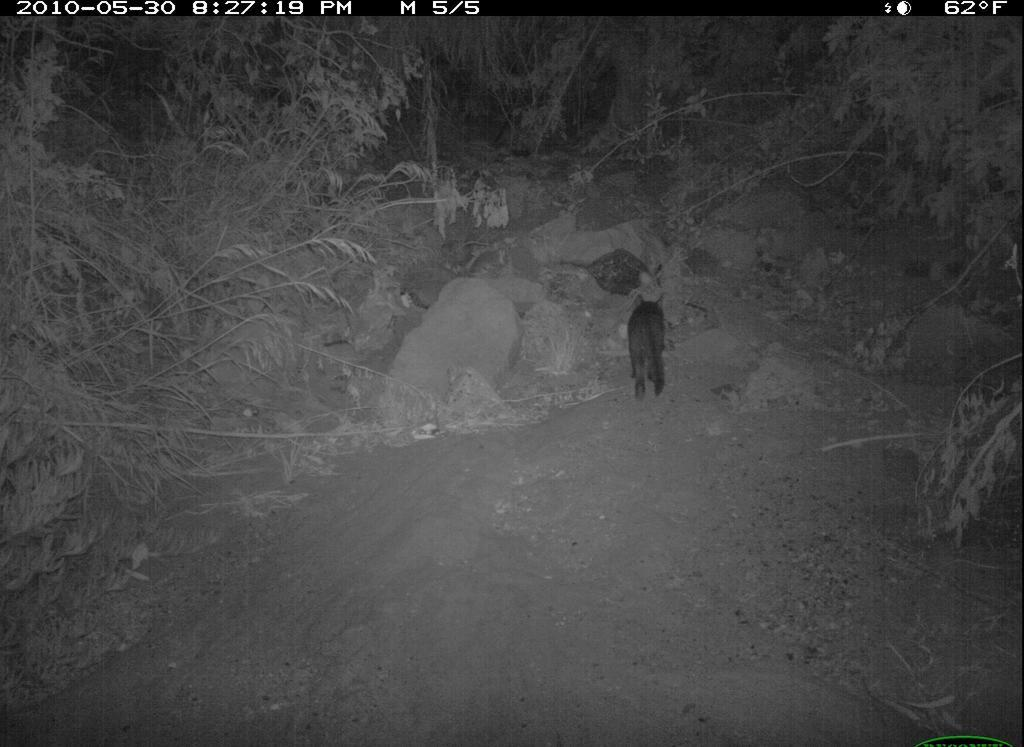cat: (625, 290, 668, 403)
